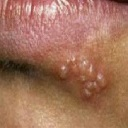Herpes Virus: (61, 55, 105, 97)
